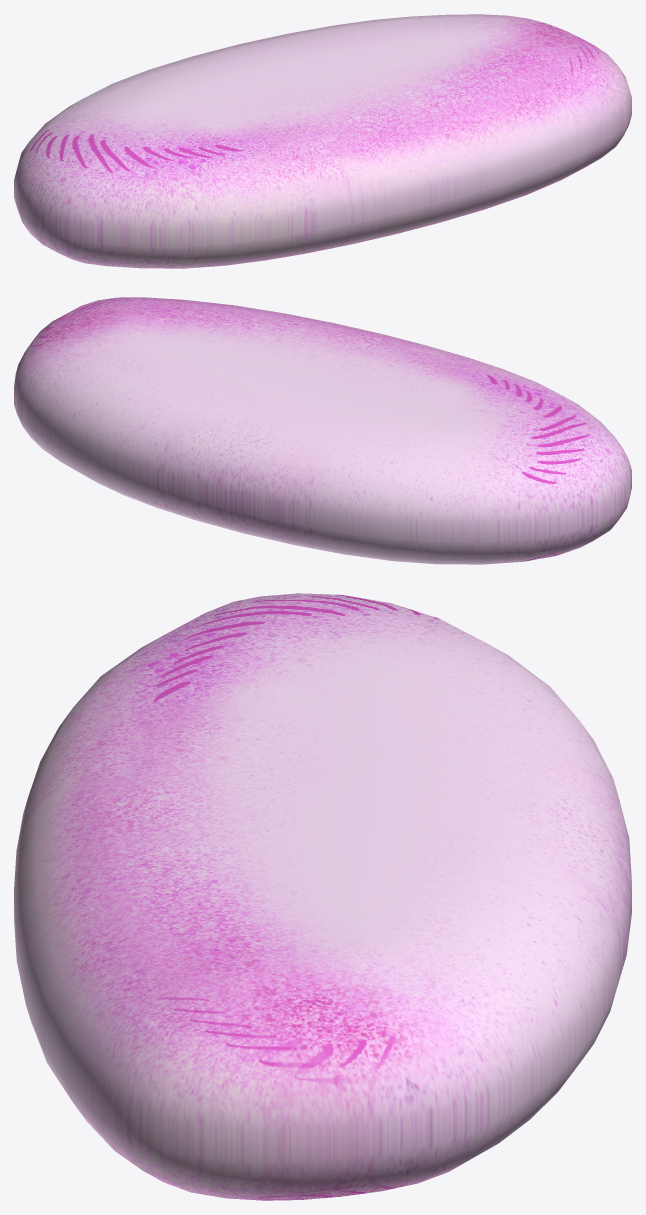
The model's file is Cloud_Maru_003.obj.
The picture shows the model from 3 angles, top to bottom: view 1: azimuth 30°, elevation 25°; view 2: azimuth 150°, elevation 25°; view 3: azimuth 270°, elevation 25°; orthographic projection. The views are drawn at different scales.
Parts seen in each view (by area): view 1: Cloud_Maru_003; view 2: Cloud_Maru_003; view 3: Cloud_Maru_003.
Part boxes in pixels (box(x1,y1,x2,y2)): Cloud_Maru_003: box(14, 14, 631, 268); Cloud_Maru_003: box(14, 297, 631, 564); Cloud_Maru_003: box(14, 593, 631, 1200).
Size of the model in its own units: 0.7762 by 0.1489 by 0.4075.
Materials: 1 (1 with a texture image).
